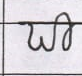i_matra: (58, 11, 74, 51)
